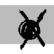not correct: (16, 8, 48, 50)
